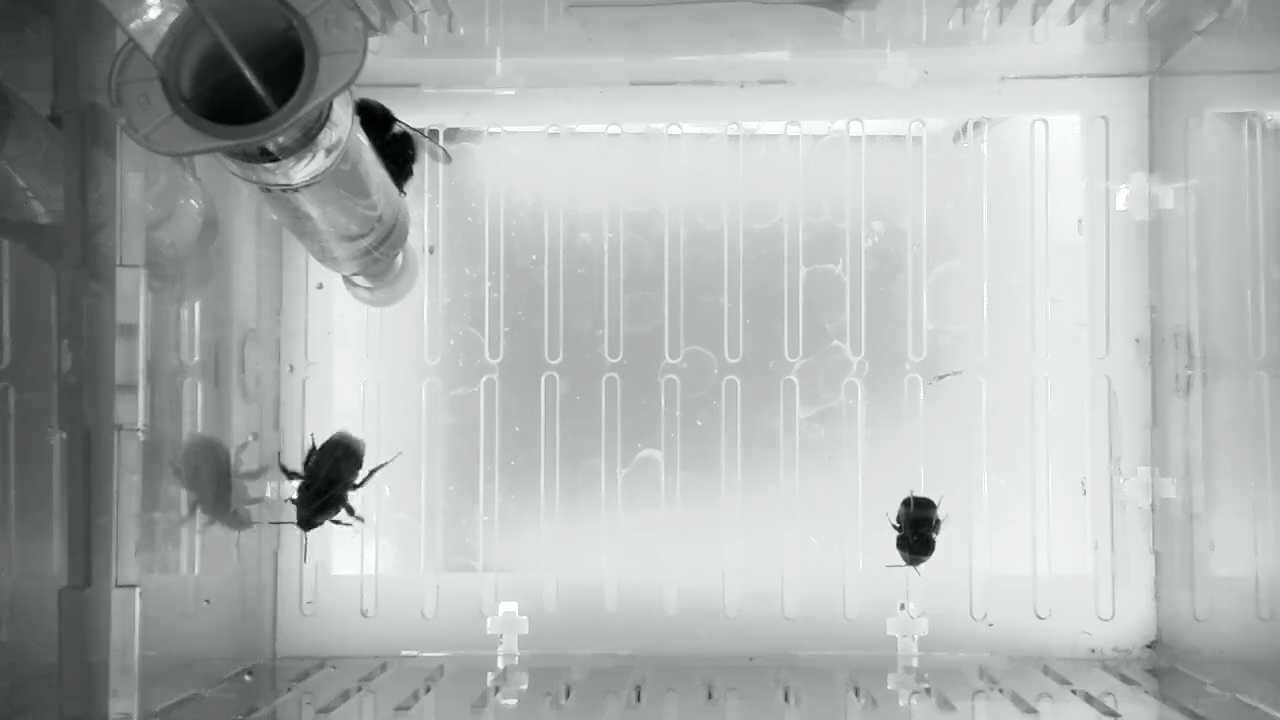bee_alive: (263, 423, 406, 568), (349, 90, 456, 202)
bee_dead: (879, 482, 953, 581)
feeder: (248, 106, 413, 282)
